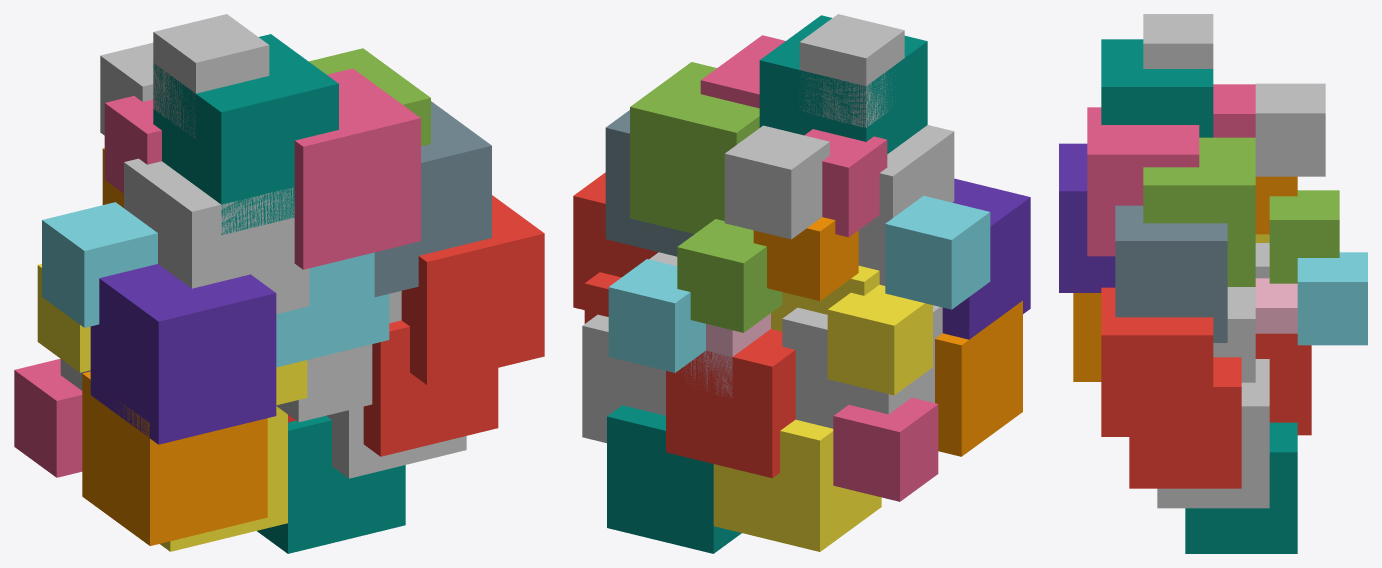
3 renders of one model, left to right at view 1: azimuth 30°, elevation 25°; view 2: azimuth 150°, elevation 25°; view 3: azimuth 270°, elevation 25°, orthographic. The views are drawn at different scales.
Parts seen in each view (by area): view 1: mesh_1273042255, mesh_528300404, mesh_1739654748, mesh_1622555976, mesh_37068059, mesh_1923024171, mesh_2101170248, mesh_1597092566, mesh_947568863, mesh_574812499, mesh_1351240721, mesh_1974933610 (+9 smaller); view 2: mesh_1577501222, mesh_1608878759, mesh_528300404, mesh_1588815701, mesh_2101170248, mesh_574812499, mesh_1739654748, mesh_118243385, mesh_767327093, mesh_1162217478, mesh_1000729041, mesh_392601053 (+13 smaller); view 3: mesh_37068059, mesh_1597092566, mesh_1577501222, mesh_1622555976, mesh_947568863, mesh_528300404, mesh_2101170248, mesh_118243385, mesh_392601053, mesh_600949386, mesh_1000729041, mesh_1273042255 (+8 smaller).
Boxes of the visible parts, x1=… form: mesh_1273042255: x1=90, y1=264, x2=276, y2=444; mesh_528300404: x1=153, y1=34, x2=338, y2=234; mesh_1739654748: x1=82, y1=371, x2=267, y2=545; mesh_1622555976: x1=294, y1=68, x2=420, y2=269; mesh_37068059: x1=401, y1=195, x2=544, y2=384; mesh_1923024171: x1=124, y1=158, x2=309, y2=314; mesh_2101170248: x1=257, y1=416, x2=405, y2=553; mesh_1597092566: x1=374, y1=101, x2=491, y2=297; mesh_947568863: x1=363, y1=320, x2=498, y2=456; mesh_574812499: x1=42, y1=202, x2=157, y2=327; mesh_1351240721: x1=276, y1=252, x2=389, y2=367; mesh_1974933610: x1=153, y1=14, x2=269, y2=139; mesh_1577501222: x1=630, y1=62, x2=759, y2=233; mesh_1608878759: x1=666, y1=329, x2=795, y2=478; mesh_528300404: x1=759, y1=15, x2=927, y2=153; mesh_1588815701: x1=713, y1=419, x2=881, y2=551; mesh_2101170248: x1=607, y1=405, x2=741, y2=553; mesh_574812499: x1=885, y1=195, x2=990, y2=309; mesh_1739654748: x1=935, y1=300, x2=1022, y2=456; mesh_118243385: x1=724, y1=125, x2=829, y2=239; mesh_767327093: x1=827, y1=284, x2=932, y2=395; mesh_1162217478: x1=833, y1=397, x2=938, y2=501; mesh_1000729041: x1=677, y1=219, x2=782, y2=332; mesh_392601053: x1=608, y1=259, x2=705, y2=372; mesh_37068059: x1=1101, y1=287, x2=1213, y2=436; mesh_1597092566: x1=1115, y1=205, x2=1227, y2=342; mesh_1577501222: x1=1143, y1=137, x2=1255, y2=286; mesh_1622555976: x1=1087, y1=107, x2=1199, y2=256; mesh_947568863: x1=1129, y1=357, x2=1241, y2=488; mesh_528300404: x1=1101, y1=39, x2=1213, y2=137; mesh_2101170248: x1=1185, y1=422, x2=1297, y2=553; mesh_118243385: x1=1255, y1=83, x2=1325, y2=176; mesh_392601053: x1=1297, y1=252, x2=1367, y2=345; mesh_600949386: x1=1157, y1=359, x2=1269, y2=508; mesh_1000729041: x1=1269, y1=190, x2=1339, y2=283; mesh_1273042255: x1=1059, y1=143, x2=1115, y2=292.
Size of the model in its own units: 29 by 35 by 22.
